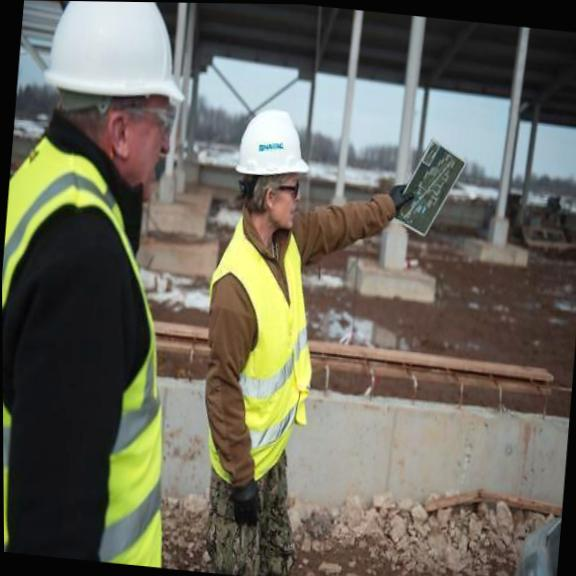safety_vest: (1, 146, 192, 535), (191, 213, 330, 493)
